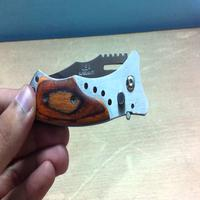knife: (9, 48, 163, 130)
